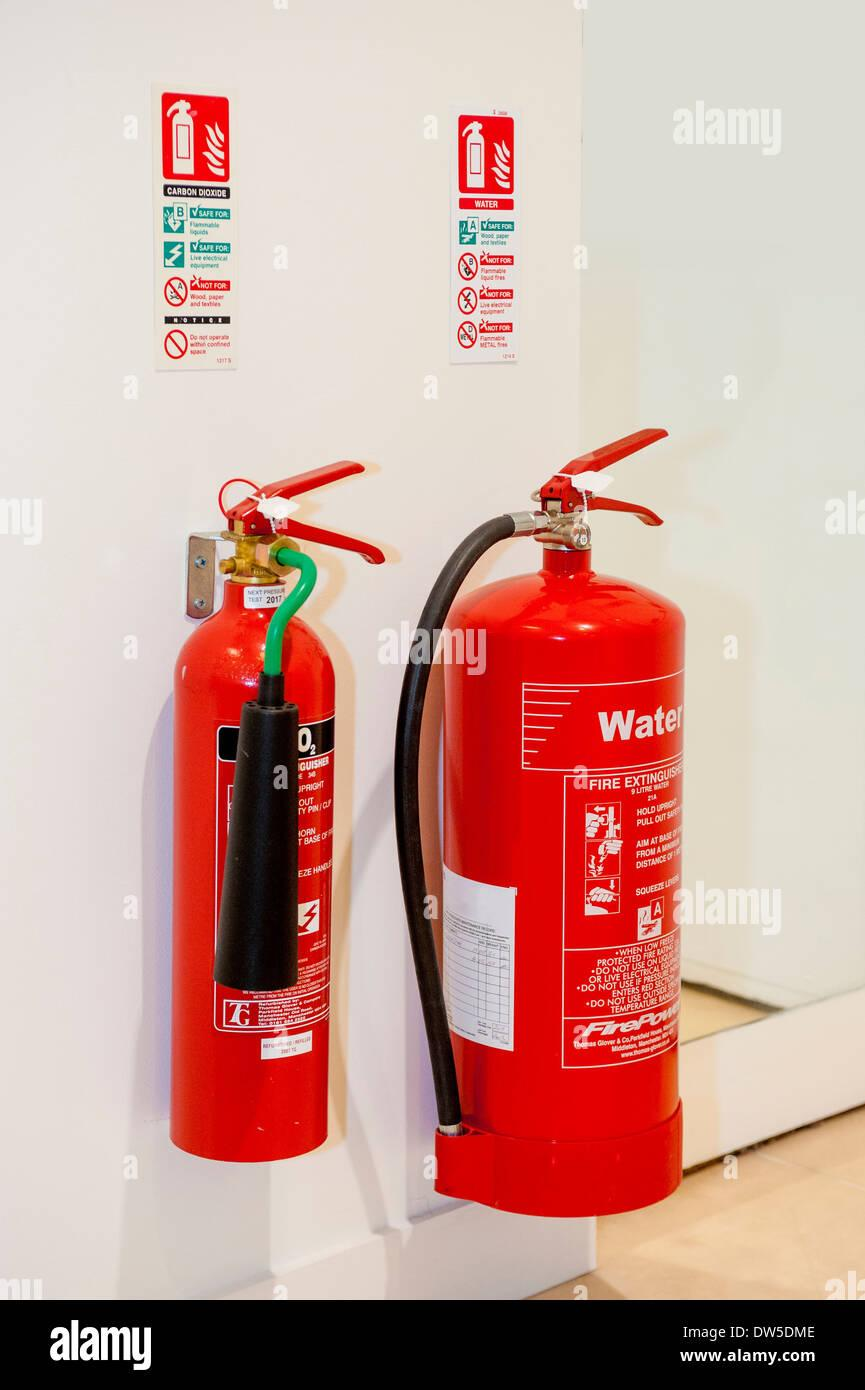wall-mounted: (390, 440, 736, 1244), (114, 452, 360, 1166)
